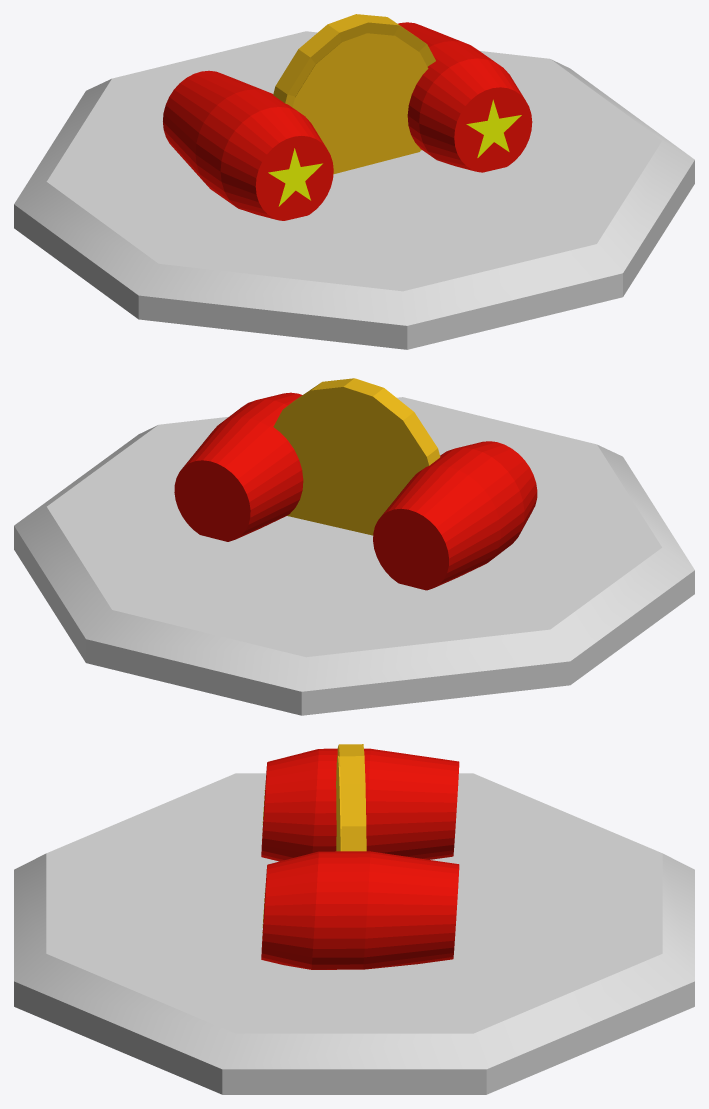
File: Every2Money.fbx
3 renders of one model, top to bottom at view 1: azimuth 30°, elevation 25°; view 2: azimuth 150°, elevation 25°; view 3: azimuth 270°, elevation 25°, orthographic. The views are drawn at different scales.
Visible parts, largest first — view 1: Cube.004, Text.001, Cube.003, Text.002; view 2: Cube.004, Cube.003, Text.001, Text.002; view 3: Cube.004, Text.002, Text.001, Cube.003.
Part boxes in pixels (left/top/right/bottom): Cube.004: left=14, top=31, right=694, bottom=349; Text.001: left=163, top=70, right=333, bottom=220; Cube.003: left=273, top=14, right=435, bottom=174; Text.002: left=398, top=22, right=532, bottom=172; Cube.004: left=14, top=397, right=694, bottom=715; Cube.003: left=273, top=378, right=440, bottom=535; Text.001: left=373, top=441, right=537, bottom=590; Text.002: left=174, top=392, right=303, bottom=541; Cube.004: left=14, top=773, right=694, bottom=1094; Text.002: left=261, top=851, right=459, bottom=969; Text.001: left=261, top=748, right=459, bottom=861; Cube.003: left=336, top=744, right=366, bottom=851.
Bounding box in the file's own units: 90.03 × 29.08 × 90.03.
